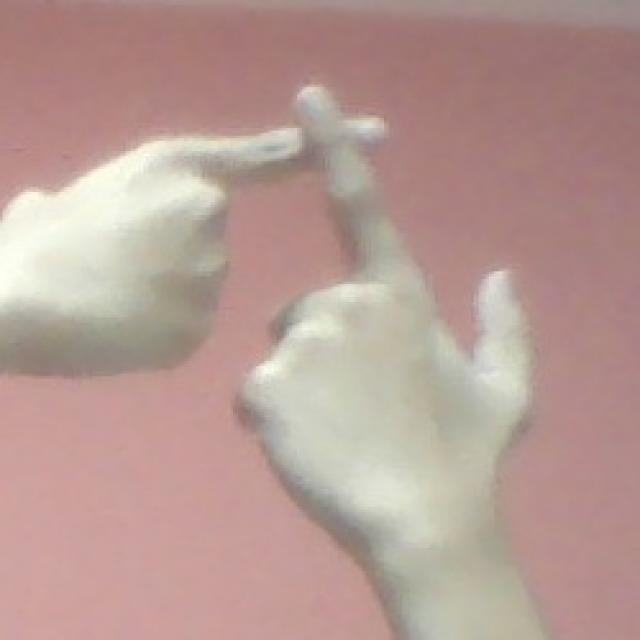Alphabet-J: (16, 83, 575, 553)
